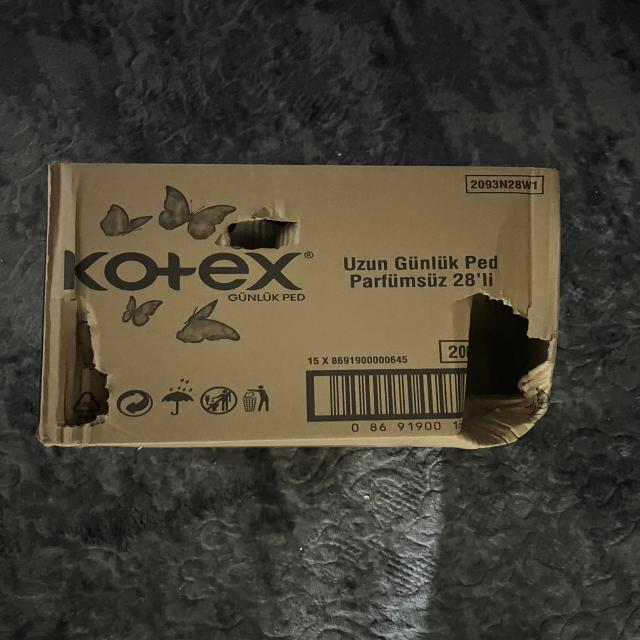damaged: (42, 156, 572, 458), (446, 283, 564, 455), (42, 289, 124, 446), (205, 202, 333, 262)
